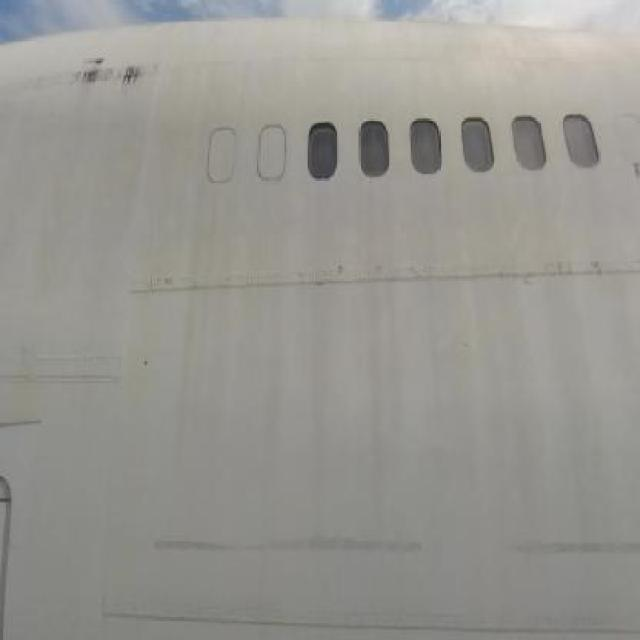Rust: (70, 40, 165, 118)
Scartch: (138, 500, 640, 603), (545, 254, 609, 286)
